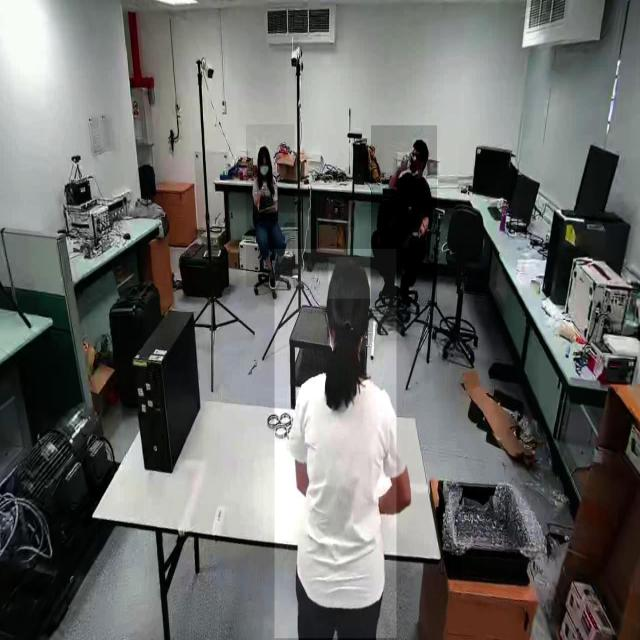face_mask: (259, 157, 268, 178)
face_nomask: (409, 154, 422, 170)
hand_noglove: (398, 152, 410, 172)
head_nohelmet: (328, 257, 371, 299), (412, 138, 429, 154), (256, 145, 270, 157)
person: (275, 249, 397, 639), (371, 125, 437, 308), (246, 124, 295, 288)
